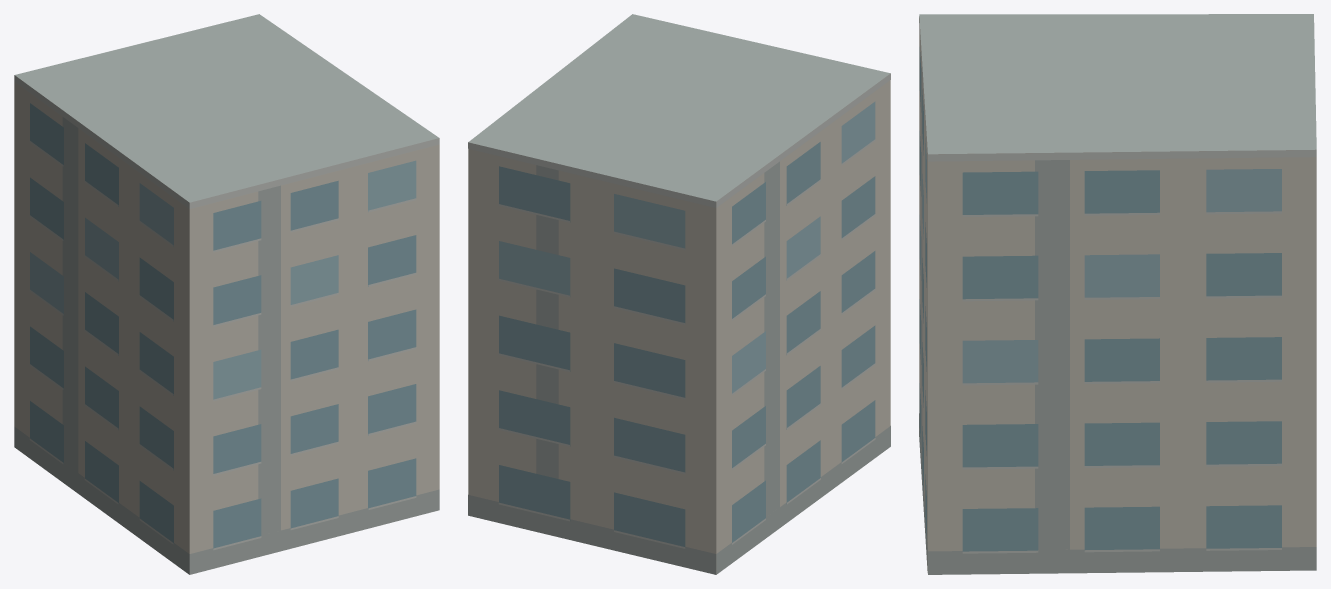
The model's file is survey-upis-32650644.glb.
3 renders of one model, left to right at view 1: azimuth 30°, elevation 25°; view 2: azimuth 150°, elevation 25°; view 3: azimuth 270°, elevation 25°, orthographic. The views are drawn at different scales.
Visible parts, largest first — view 1: survey-upis-32650644.tmp; view 2: survey-upis-32650644.tmp; view 3: survey-upis-32650644.tmp.
Boxes of the visible parts, x1,y1,x2,y2 form: survey-upis-32650644.tmp: (14, 14, 439, 574); survey-upis-32650644.tmp: (468, 14, 890, 574); survey-upis-32650644.tmp: (919, 14, 1316, 574).
Bounding box in the file's own units: 10.03 × 14 × 12.
